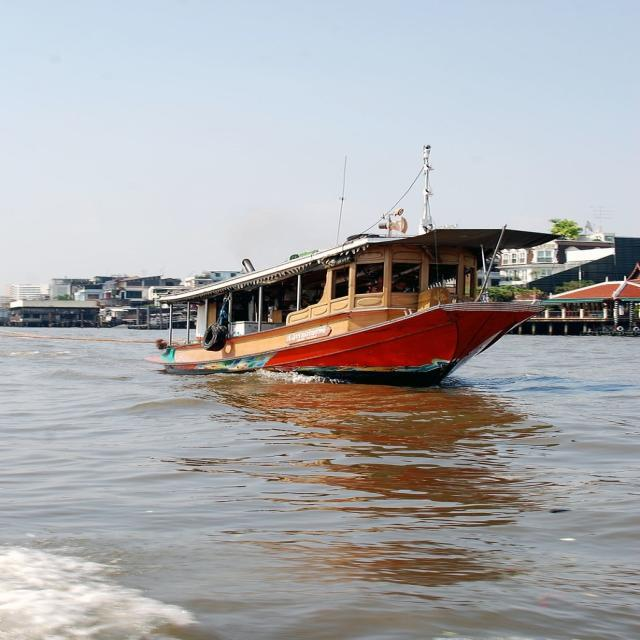boat: (153, 212, 544, 384)
